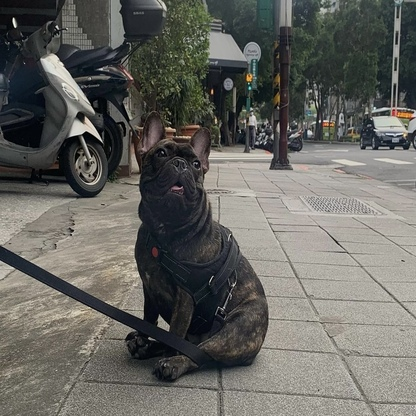bulldog: (124, 109, 269, 386)
